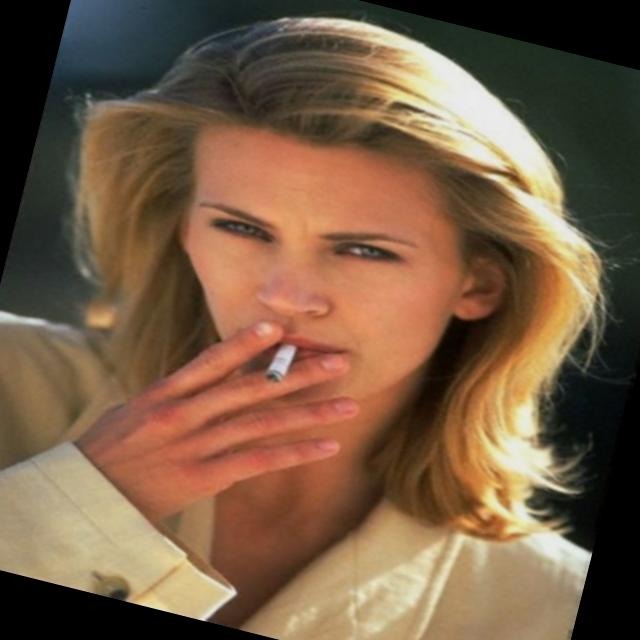cigarette: (246, 326, 316, 401)
